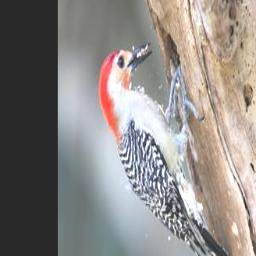Woodpecker: (99, 43, 239, 256)
